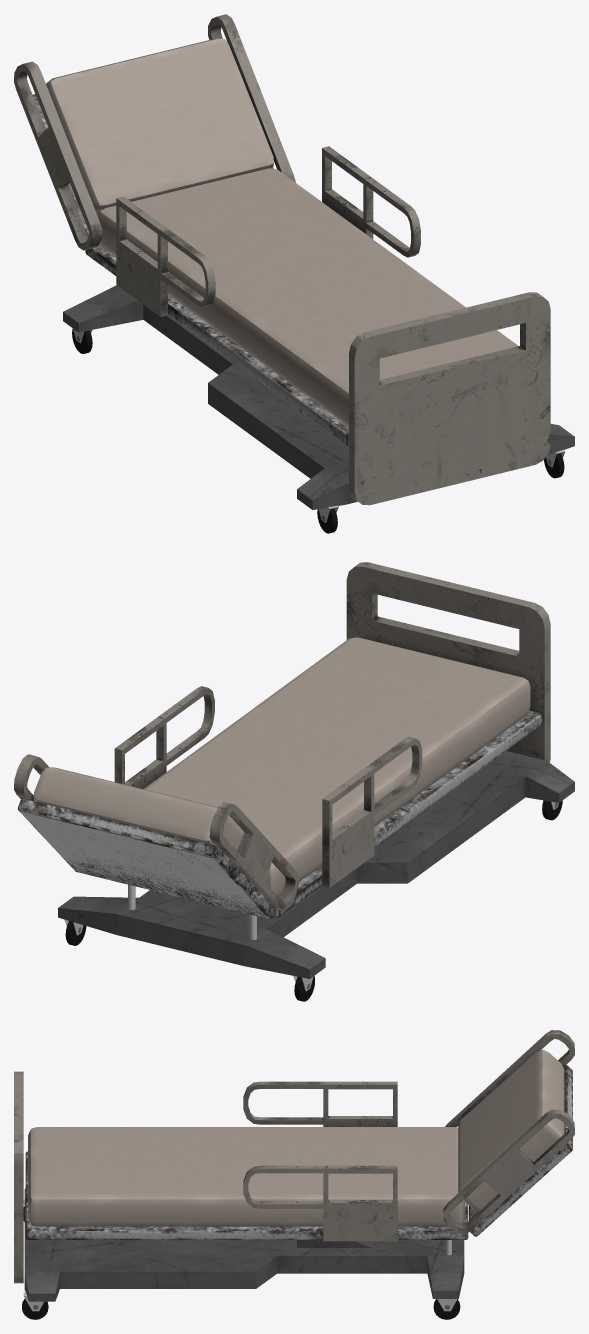
File: hospitalBed.fbx
3 views of the same model, one above another, from view 1: azimuth 30°, elevation 25°; view 2: azimuth 150°, elevation 25°; view 3: azimuth 270°, elevation 25° (orthographic). The views are drawn at different scales.
Visible parts, largest first — view 1: bed; view 2: bed; view 3: bed.
Part boxes in pixels (x1,y1,x2,y2): bed: (14,14,574,533); bed: (14,562,574,1001); bed: (14,1030,574,1319).
Bounding box in the file's own units: 10.72 × 9.28 × 23.67.
